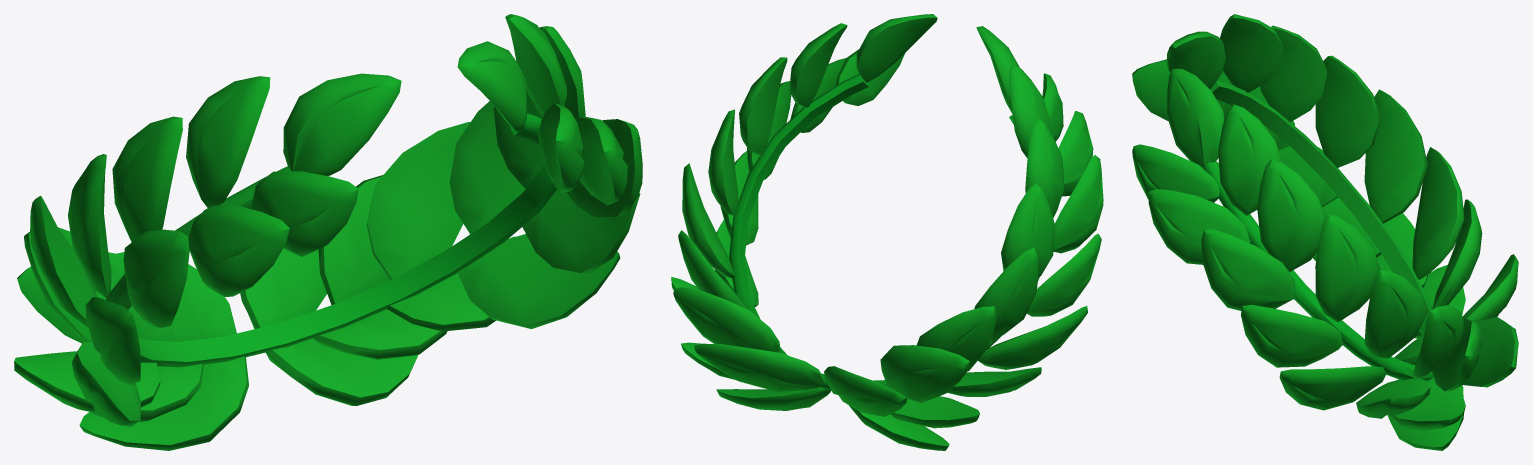
The picture shows the model from 3 angles, left to right: view 1: azimuth 30°, elevation 25°; view 2: azimuth 150°, elevation 25°; view 3: azimuth 270°, elevation 25°; orthographic projection. The views are drawn at different scales.
Visible parts, largest first — view 1: model_0.092; view 2: model_0.092; view 3: model_0.092.
Part boxes in pixels (x1=…): model_0.092: x1=14, y1=14, x2=642, y2=450; model_0.092: x1=671, y1=14, x2=1103, y2=450; model_0.092: x1=1132, y1=14, x2=1518, y2=450.
Bounding box in the file's own units: 4.19 × 3.49 × 3.52.
